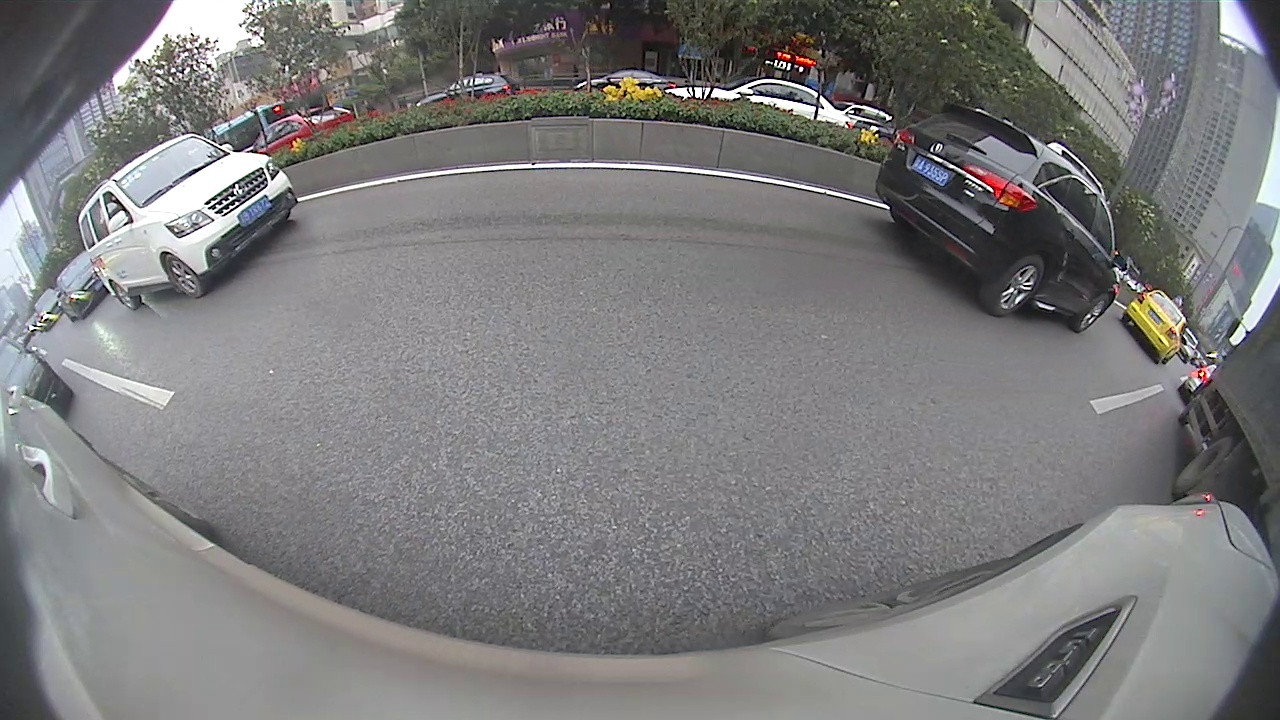car: (875, 100, 1123, 334), (76, 134, 297, 310), (1120, 285, 1187, 364)
front: (162, 253, 199, 300), (1073, 294, 1109, 332)
rear: (992, 255, 1046, 316), (108, 281, 136, 309)
